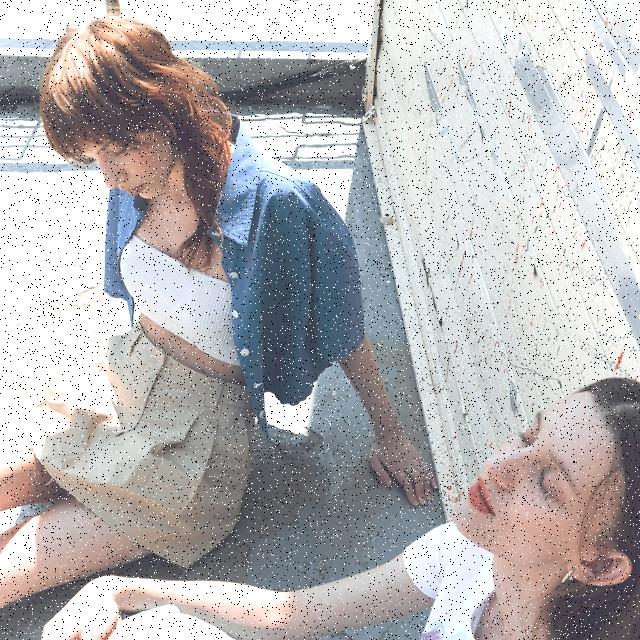Blouse_deep: (99, 124, 369, 393), (18, 324, 252, 565)
